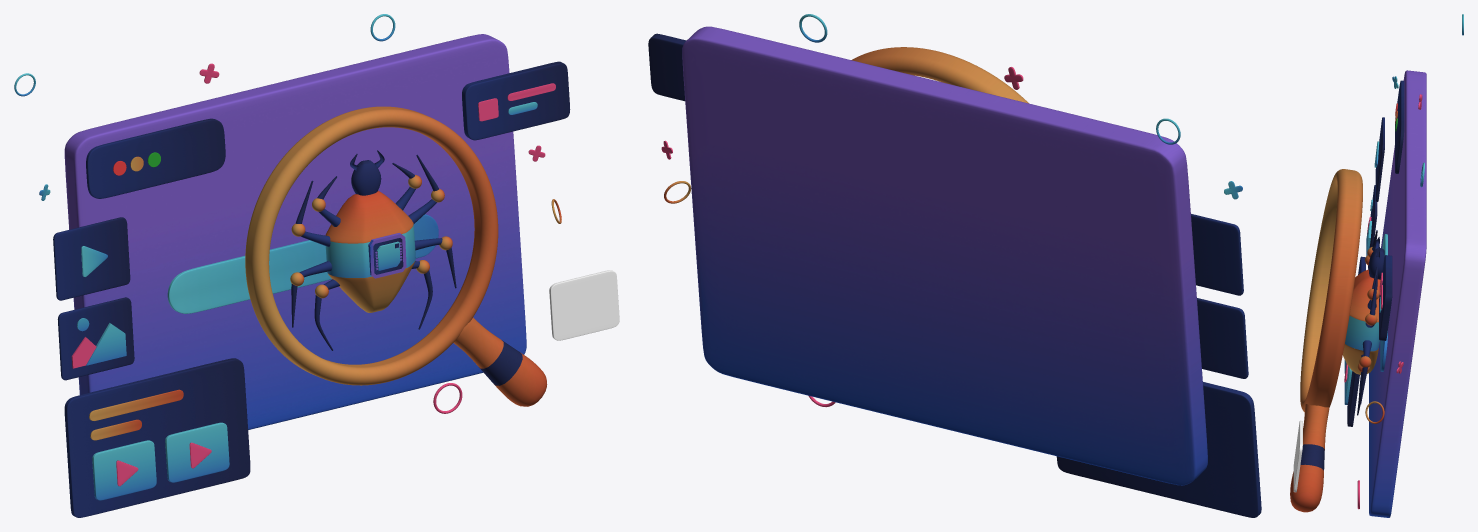
File: crawling-3d-animated-icon-489489704295.glb
3 renders of one model, left to right at view 1: azimuth 30°, elevation 25°; view 2: azimuth 150°, elevation 25°; view 3: azimuth 270°, elevation 25°, orthographic. The views are drawn at different scales.
Visible parts, largest first — view 1: Cube, Cube.003, Media Frame, Cube.001, Cube.002, Frame Text Line, Cube.027, Video Frame, Cube.005, Image Frame, Media Frame.004, Media Frame.003 (+5 smaller); view 2: Cube, Media Frame, Cube.003, Video Frame, Image Frame, Frame Text Line; view 3: Cube, Cube.003, Cube.027, Frame Text Line, Bug, Cube.001, Media Frame, Cube.020, Video Frame, Bug Head, Cube.005, Cube.002 (+2 smaller).
Boxes of the visible parts, x1,y1,x2,y2 form: Cube: (64,34,526,429); Cube.003: (245,106,547,406); Media Frame: (64,358,250,517); Cube.001: (86,118,225,198); Cube.002: (167,214,438,313); Frame Text Line: (462,61,570,140); Cube.027: (325,191,415,312); Video Frame: (53,217,130,300); Cube.005: (549,270,619,340); Image Frame: (57,297,134,380); Media Frame.004: (92,440,156,500); Media Frame.003: (165,422,229,482); Cube: (682,26,1207,485); Media Frame: (1056,382,1261,517); Cube.003: (851,47,1028,103); Video Frame: (1191,214,1243,295); Image Frame: (1197,298,1248,378); Frame Text Line: (648,33,686,101); Cube: (1369,70,1426,517); Cube.003: (1290,169,1362,512); Cube.027: (1343,269,1380,374); Frame Text Line: (1379,255,1392,340); Bug: (1345,316,1379,351); Cube.001: (1395,80,1404,173); Media Frame: (1347,256,1365,426); Cube.020: (1300,444,1324,470); Video Frame: (1375,117,1384,201); Bug Head: (1368,237,1384,279); Cube.005: (1293,420,1302,492); Cube.002: (1380,234,1387,371).
Bounding box in the file's own units: 6.57 × 4.72 × 2.15.
14 materials, 9 textured.
